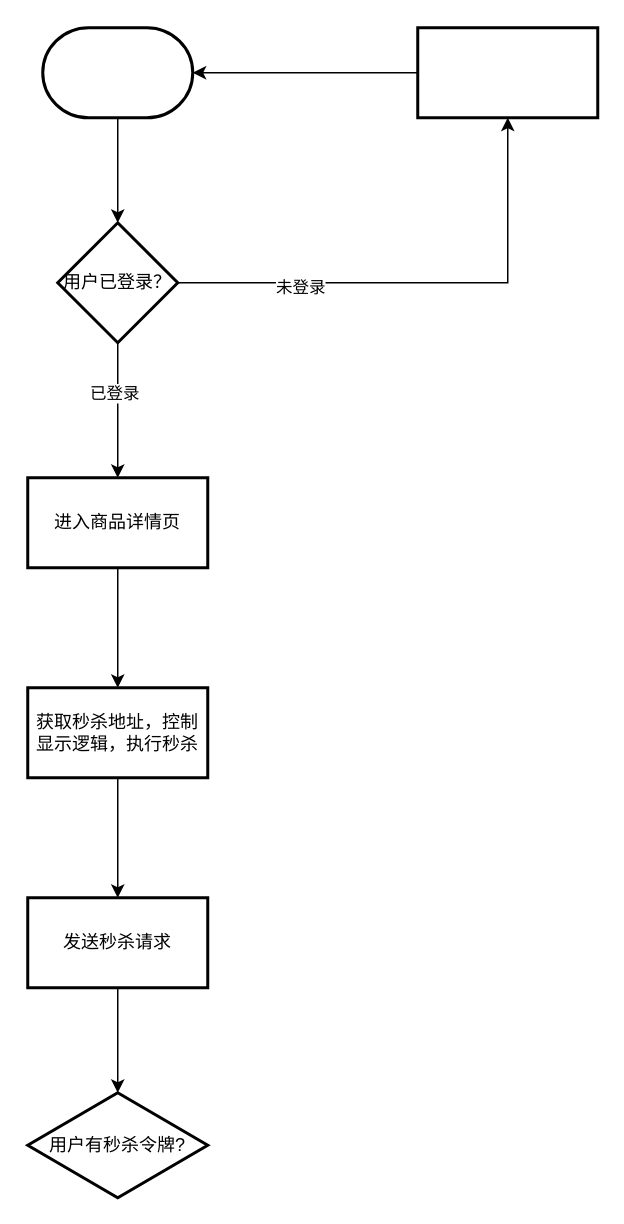
This 624x1224 diagram has some shape labels left out. Each missing label, with the centre of its shape:
"点击立即抢购" goes at [117,72].
"用户登录接口" goes at [507,72].
